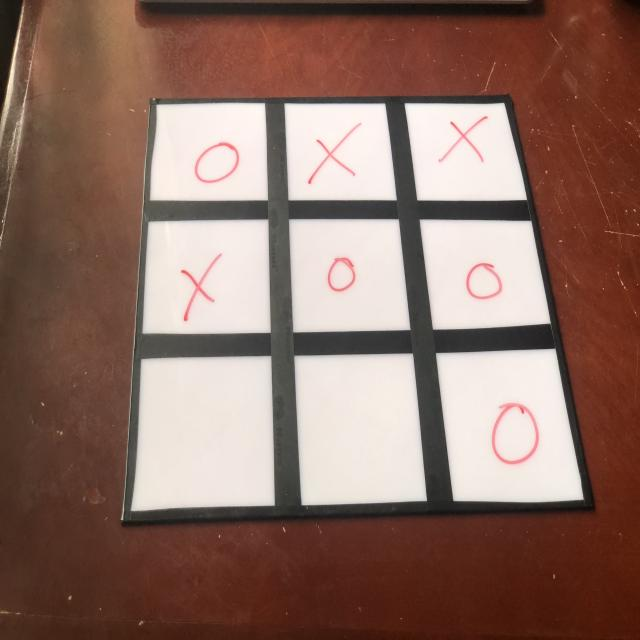null: (127, 355, 277, 512), (294, 350, 429, 506)
o: (488, 394, 543, 468), (195, 136, 241, 186), (465, 258, 505, 302), (324, 255, 358, 294)
table: (115, 92, 596, 519)
x: (309, 122, 366, 186), (175, 249, 223, 322), (434, 114, 486, 166)
